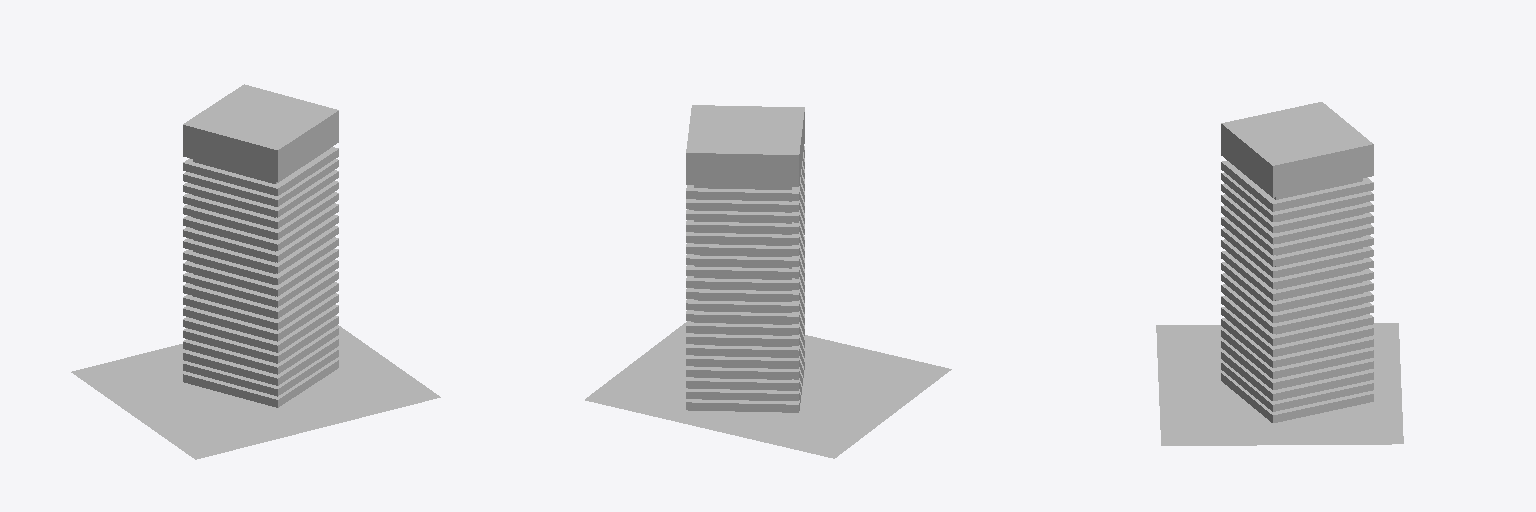
File: uts_tower.obj
The picture shows the model from 3 angles: view 1: azimuth 30°, elevation 25°; view 2: azimuth 150°, elevation 25°; view 3: azimuth 270°, elevation 25°; orthographic projection.
Visible parts, largest first — view 1: Mesh1 Group1 Model, Mesh2 Google_Earth_Snapshot Model; view 2: Mesh1 Group1 Model, Mesh2 Google_Earth_Snapshot Model; view 3: Mesh1 Group1 Model, Mesh2 Google_Earth_Snapshot Model.
Boxes of the visible parts, <box> form: Mesh1 Group1 Model: <box>183,84,338,407</box>; Mesh2 Google_Earth_Snapshot Model: <box>71,325,440,459</box>; Mesh1 Group1 Model: <box>686,105,804,412</box>; Mesh2 Google_Earth_Snapshot Model: <box>585,323,951,458</box>; Mesh1 Group1 Model: <box>1221,102,1373,422</box>; Mesh2 Google_Earth_Snapshot Model: <box>1156,323,1403,445</box>.
Size of the model in its own units: 95.64 by 93.46 by 81.39.